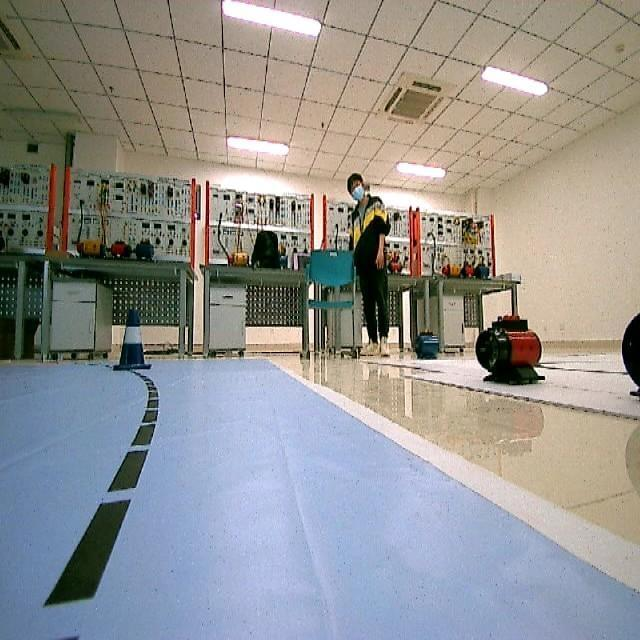obstacle: (106, 302, 166, 366)
